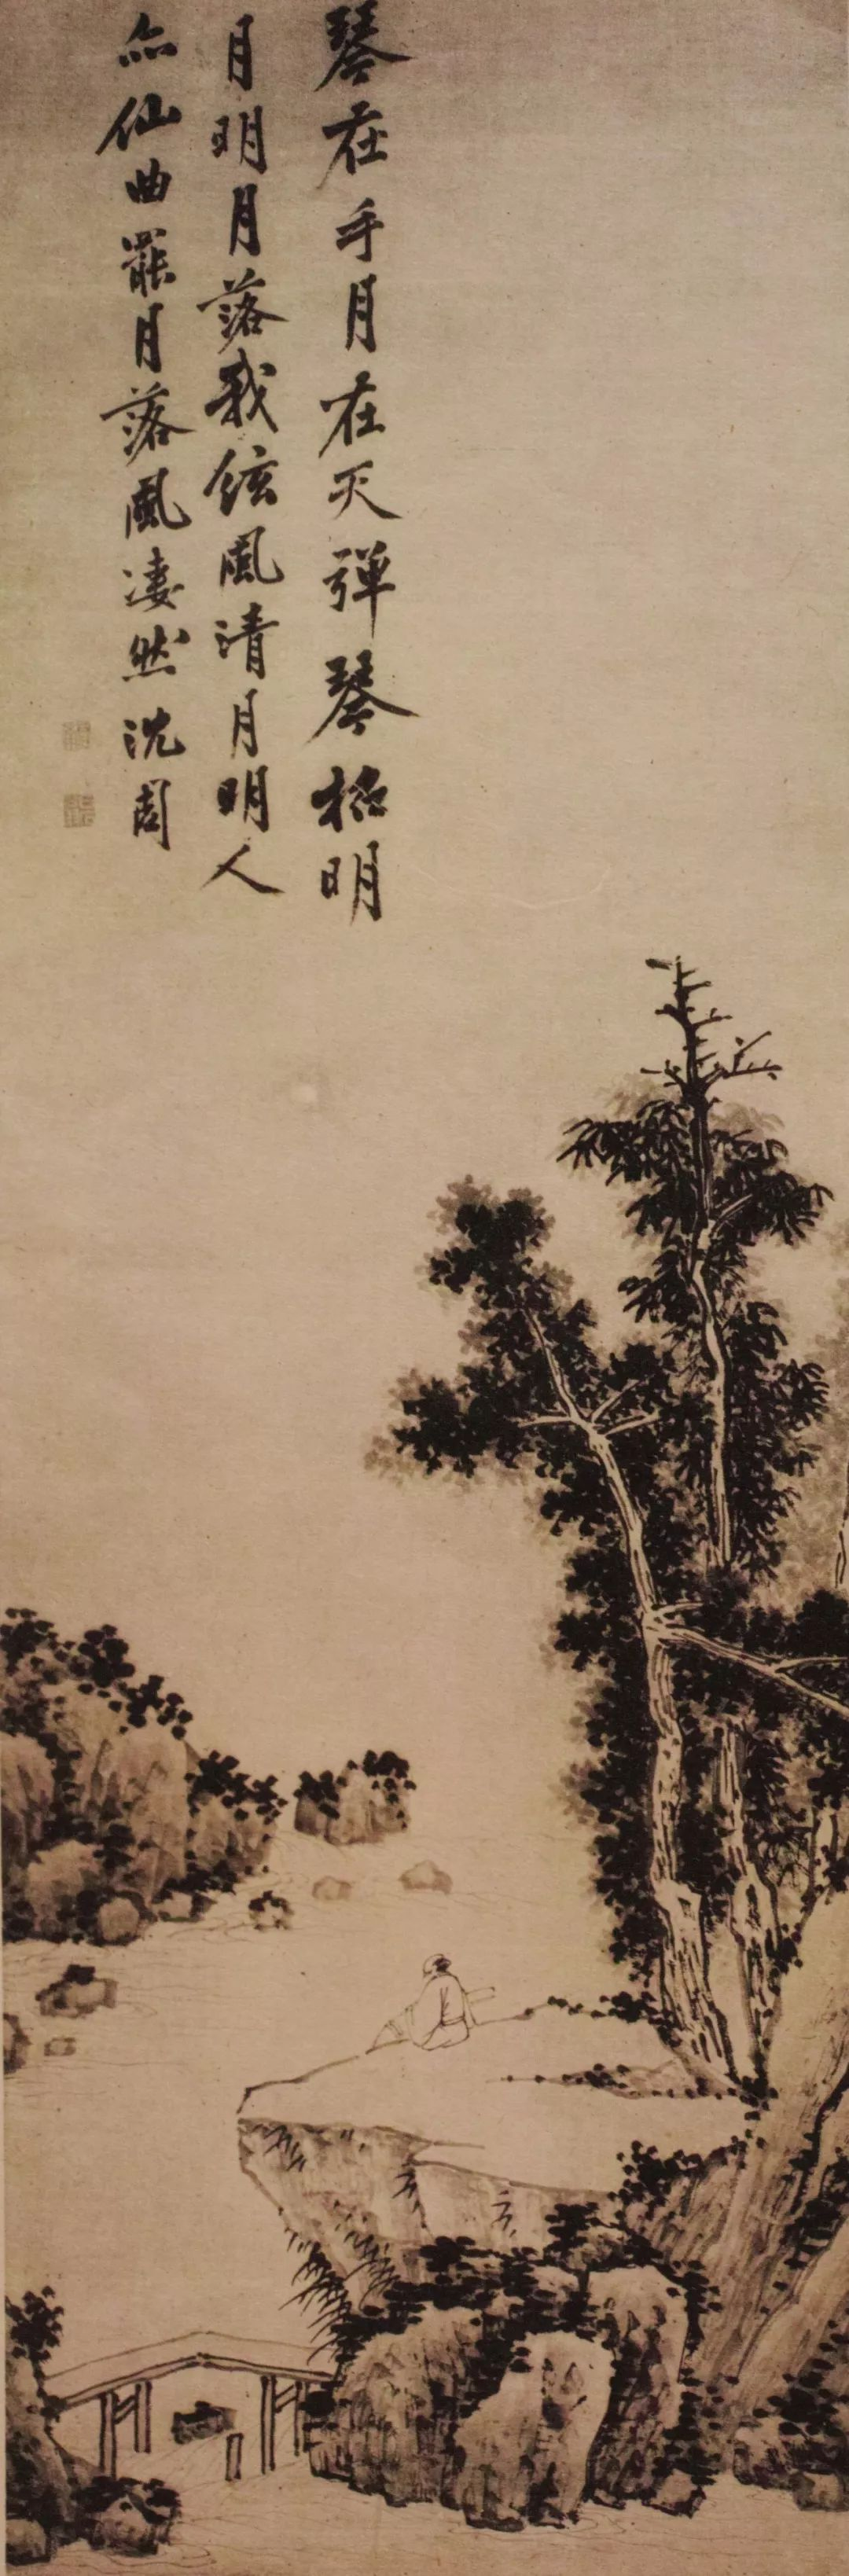bridge: (78, 2339, 339, 2479)
hill: (16, 1622, 246, 1949), (384, 2297, 682, 2504), (732, 2038, 849, 2448), (16, 2319, 80, 2544), (294, 1749, 409, 1828)
man: (367, 1960, 485, 2061)
tree: (611, 983, 791, 2035), (440, 1222, 591, 1511), (552, 1547, 642, 2013), (780, 1609, 849, 1881)
